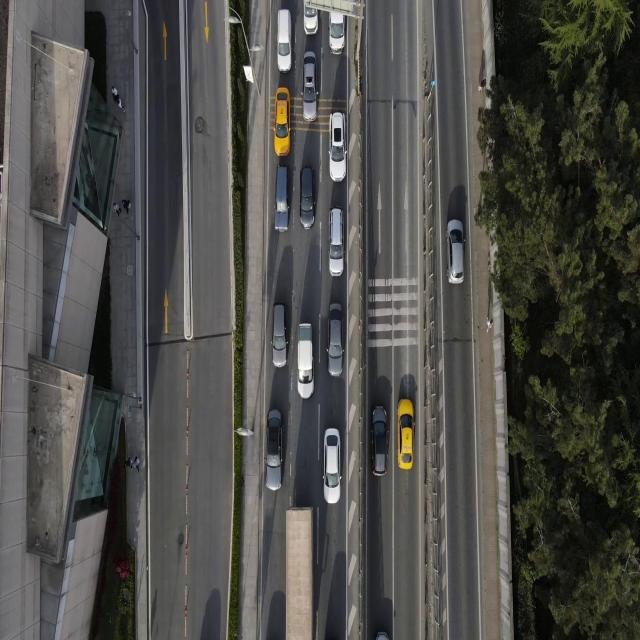p3rson: (122, 198, 133, 216), (131, 454, 141, 473), (114, 202, 122, 221), (486, 315, 494, 333), (110, 85, 120, 99), (478, 79, 488, 93), (124, 456, 132, 472), (118, 100, 126, 114)
